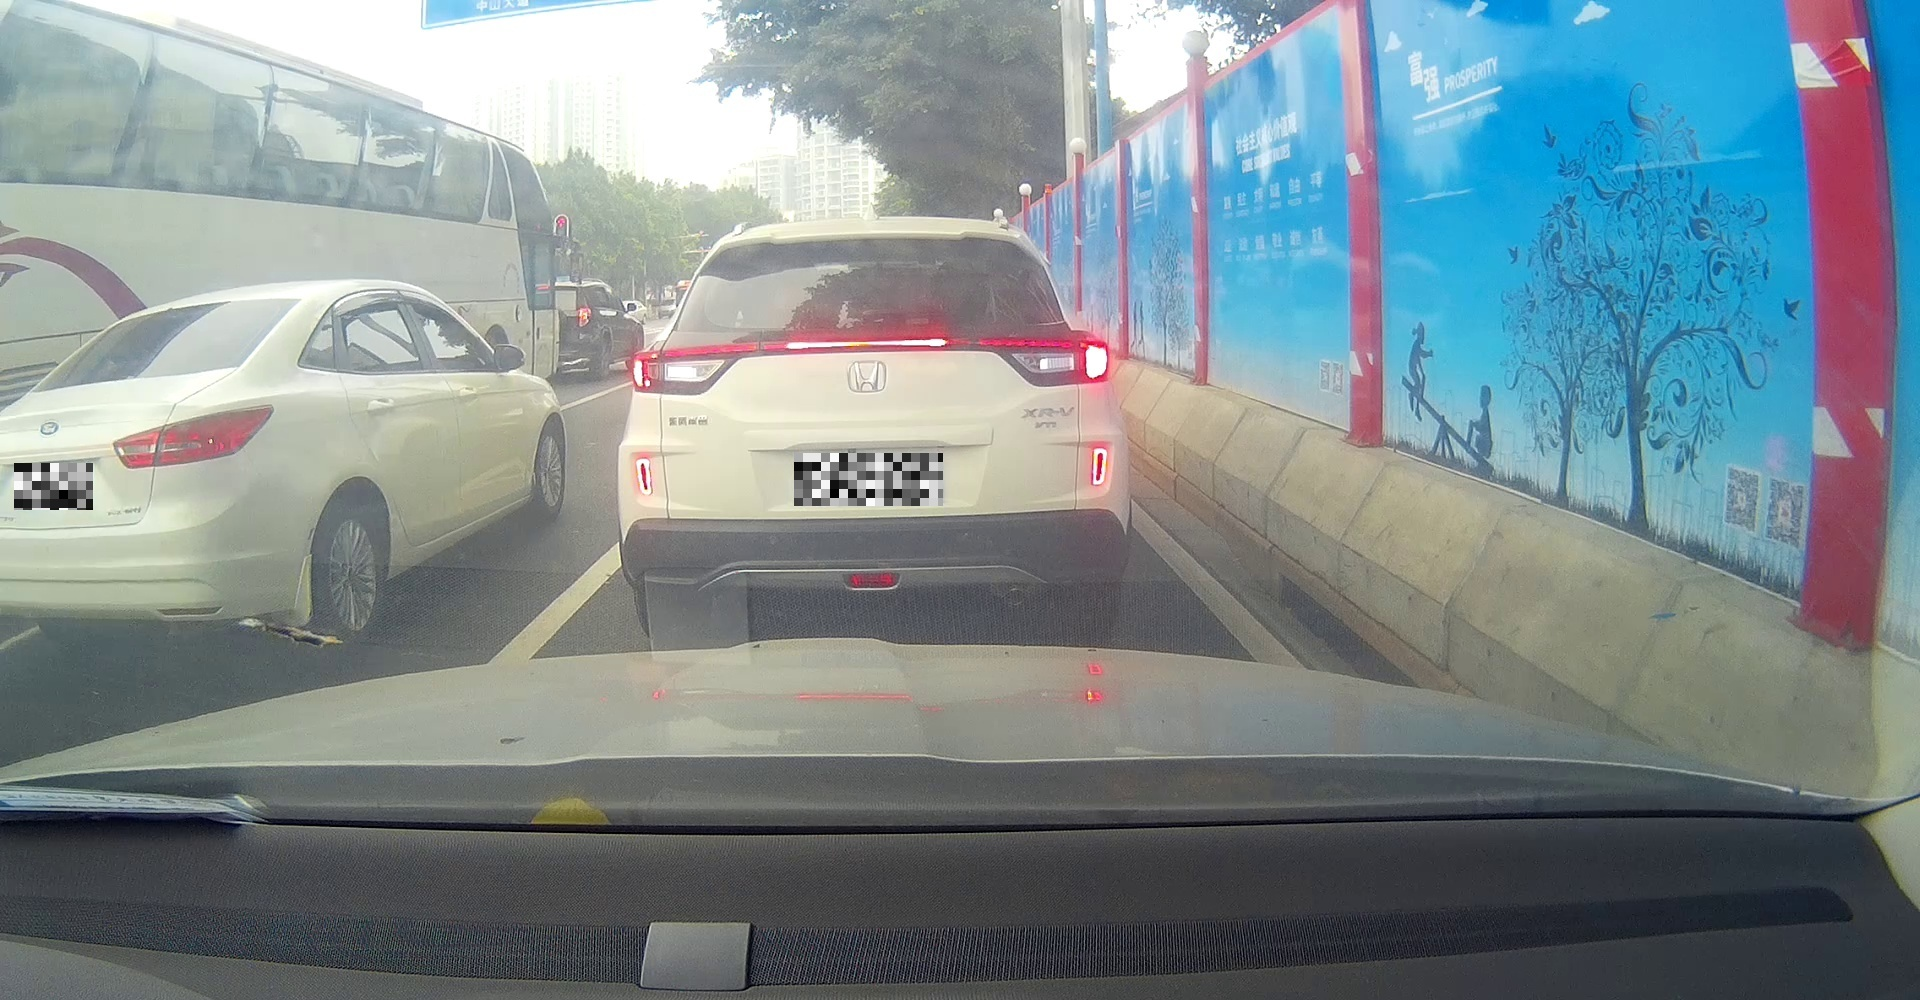L_light: (627, 340, 759, 396)
R_light: (977, 332, 1111, 388)
T_light: (763, 336, 971, 353)
day-brake: (617, 214, 1133, 636)
plate_1: (14, 463, 93, 510)
plate_2: (794, 453, 943, 506)
